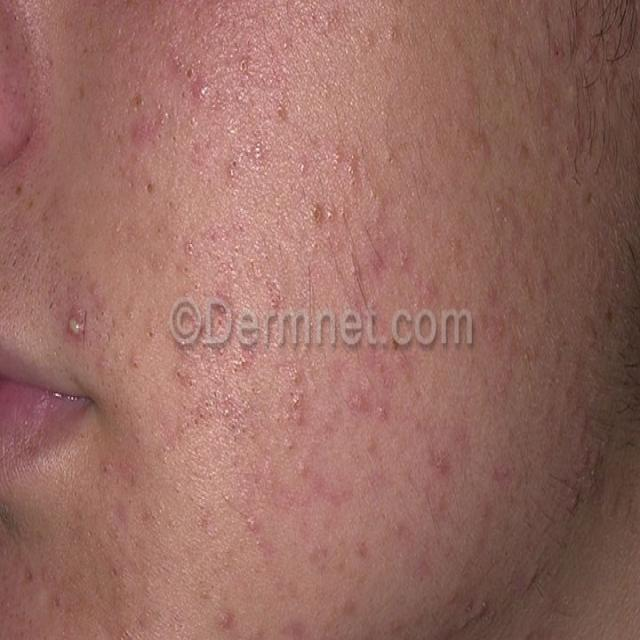Acne: (328, 144, 359, 180), (63, 308, 89, 347), (310, 196, 338, 230), (427, 446, 451, 479), (289, 388, 307, 431), (346, 389, 371, 416), (461, 596, 491, 618), (214, 606, 236, 634), (548, 37, 568, 67), (191, 73, 210, 104), (243, 511, 262, 539), (374, 398, 392, 423), (294, 456, 310, 479)
